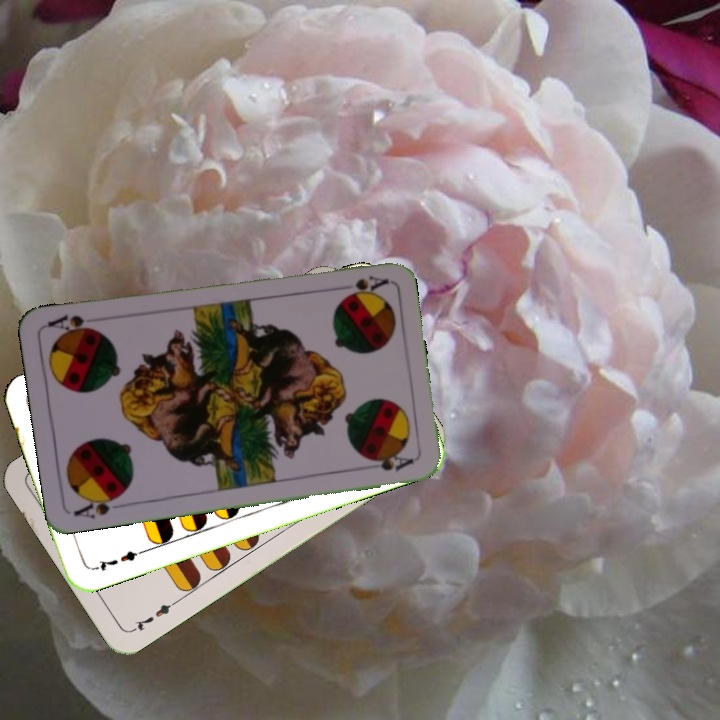E7: (127, 596, 180, 635), (88, 546, 146, 574)
SA: (70, 489, 127, 521), (331, 271, 390, 295)
